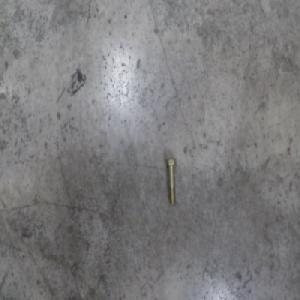Bolt: (164, 156, 176, 205)
